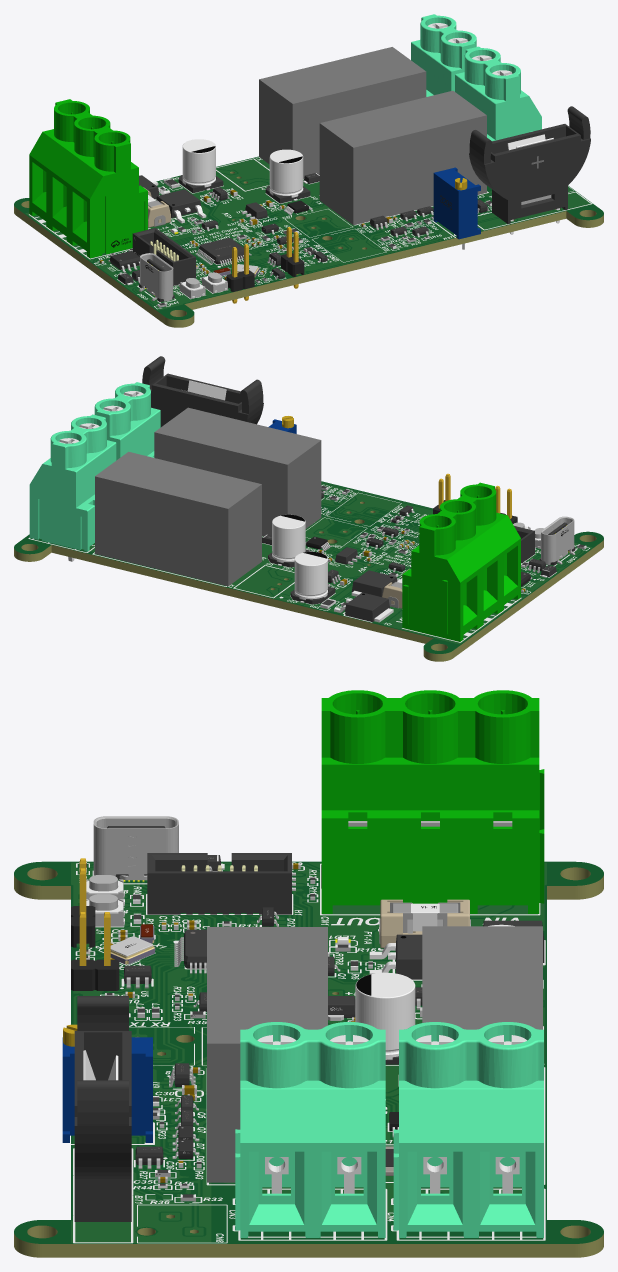
The model's file is thermo.glb.
3 views of the same model, one above another, from view 1: azimuth 30°, elevation 25°; view 2: azimuth 150°, elevation 25°; view 3: azimuth 270°, elevation 25° (orthographic). The views are drawn at different scales.
Parts seen in each view (by area): view 1: components, board; view 2: components, board; view 3: components, board.
Part boxes in pixels (left/top/right/bottom): components: left=29, top=14, right=590, bottom=307; board: left=14, top=156, right=603, bottom=327; components: left=29, top=356, right=586, bottom=641; board: left=14, top=481, right=603, bottom=661; components: left=62, top=690, right=544, bottom=1237; board: left=14, top=861, right=603, bottom=1257.
Bounding box in the file's own units: 94.97 × 26.4 × 61.97.
